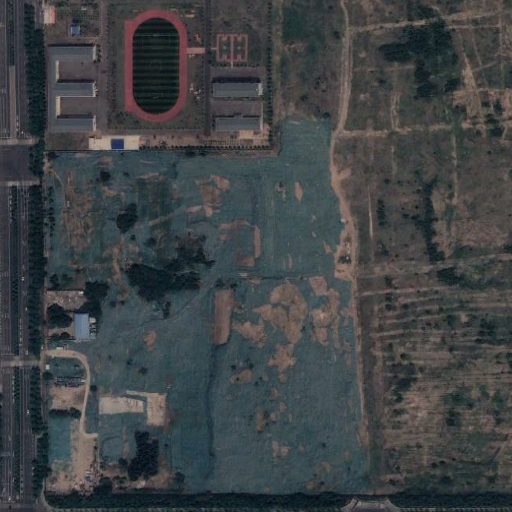cw: (40, 112, 365, 492)
